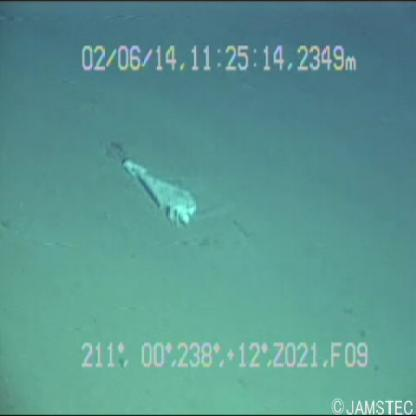Rác: (106, 128, 202, 229)
